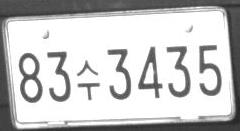3: (106, 48, 132, 100), (166, 46, 191, 97), (46, 51, 70, 102)
4: (137, 46, 162, 98)
5: (199, 44, 221, 96)
8: (18, 51, 44, 103)
수: (75, 59, 100, 100)
